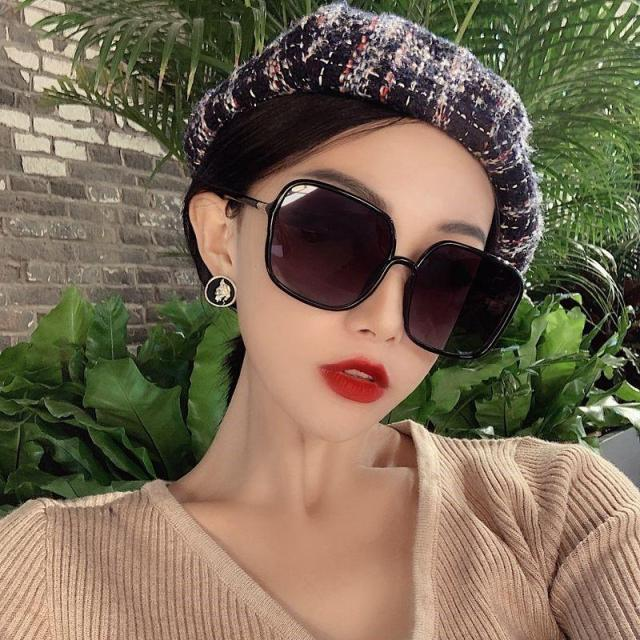hat: (186, 3, 540, 291)
